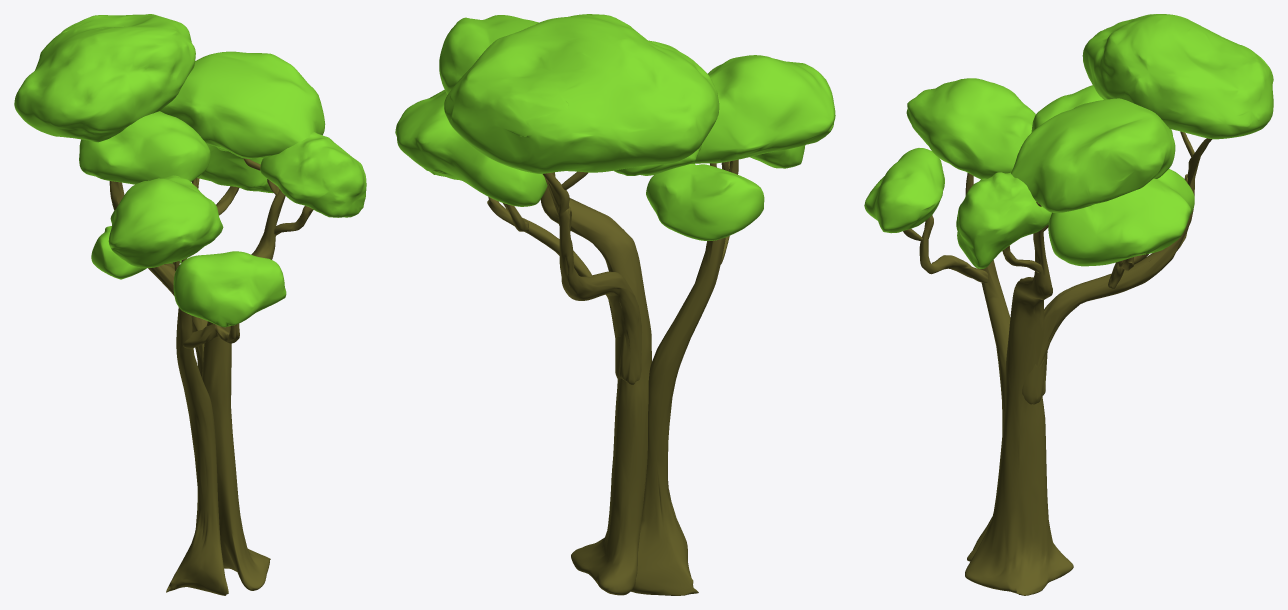
File: AfricaTree01.fbx
3 views of the same model, side by side, from view 1: azimuth 30°, elevation 25°; view 2: azimuth 150°, elevation 25°; view 3: azimuth 270°, elevation 25° (orthographic). The views are drawn at different scales.
Parts seen in each view (by area): view 1: Leaves, Trunk; view 2: Leaves, Trunk; view 3: Leaves, Trunk.
Part boxes in pixels (x1,y1,x2,y2): Leaves: (14,14,366,327); Trunk: (109,158,313,595); Leaves: (395,14,835,240); Trunk: (487,159,738,595); Leaves: (864,14,1273,268); Trunk: (903,131,1212,595).
Size of the model in its own units: 161 by 285 by 197.
